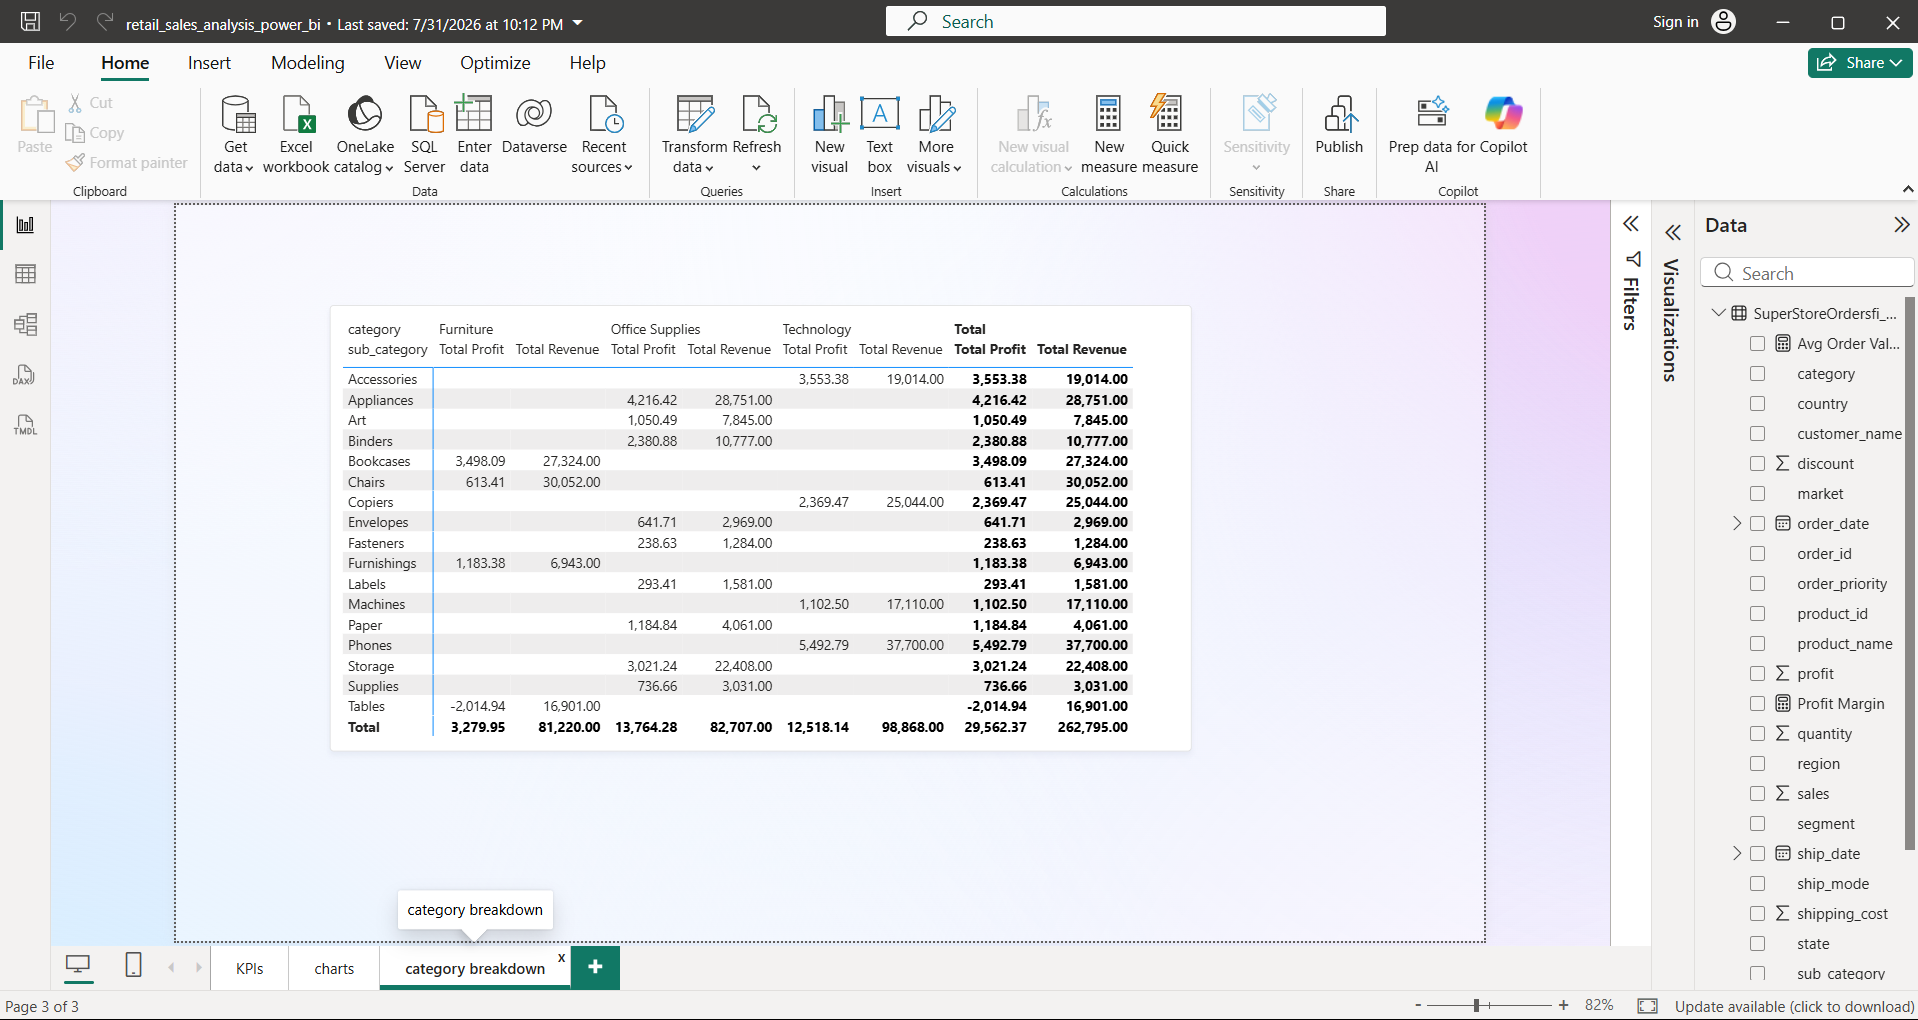

The dashboard page shown, as its layout file describes it:
{"tool":"powerbi","page":{"name":"category breakdown","canvas":[1280,720],"ordinal":2},"visuals":[{"type":"pivotTable","fields":{"Rows":["SuperStoreOrdersfi_cleaned.sub_category"],"Columns":["SuperStoreOrdersfi_cleaned.category"],"Values":["SuperStoreOrdersfi_cleaned.Total Profit","SuperStoreOrdersfi_cleaned.Total Revenue"]},"box":[150.3,97.4,843.1,436.9],"z":0}]}

Visuals, with their boxes on the page's 1280x720 design canvas (x1, y1, x2, y2). These are canvas units, not pixel positions in the 1918x1020 screenshot, which may show the page scaled, cropped or inside an application window:
pivotTable - SuperStoreOrdersfi_cleaned.sub_category x SuperStoreOrdersfi_cleaned.category: (x1=150, y1=97, x2=993, y2=534)
